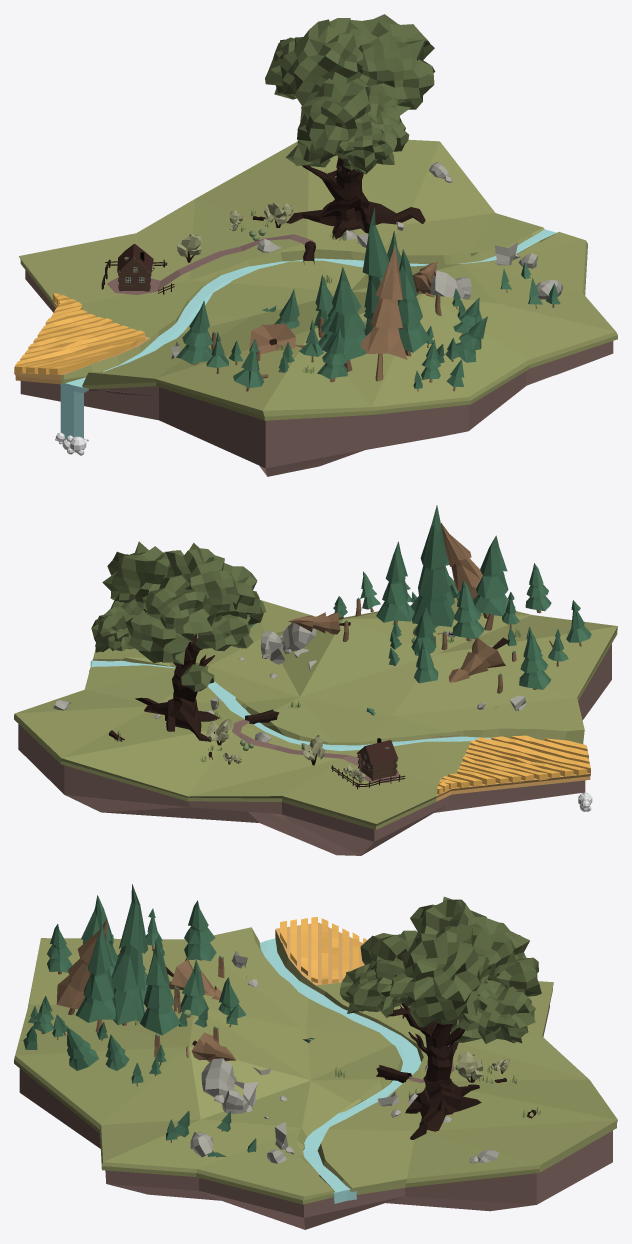
Rendered from Pasaulis.glb.
The picture shows the model from 3 angles, top to bottom: view 1: azimuth 30°, elevation 25°; view 2: azimuth 150°, elevation 25°; view 3: azimuth 270°, elevation 25°; orthographic projection. The views are drawn at different scales.
Parts seen in each view (by area): view 1: Ground grass, earth, Cube.021, Cube.001, Cube.004, RIVER, Oak, Cube.009, Spruce.008, Cube.010, Spruce.005, Spruce.007 (+12 smaller); view 2: Ground grass, earth, Cube.021, Cube.004, Cube, Cube.001, Spruce.013, Oak, Spruce.005, Cube.008, RIVER, Cube.006 (+16 smaller); view 3: Ground grass, earth, Cube.001, Oak, RIVER, Cube.006, Spruce.013, Cube.021, Spruce.007, Cube, Spruce.004, Cube.005 (+18 smaller).
Part boxes in pixels (x1,y1,x2,y2): Ground grass: [14, 139, 617, 420]; earth: [20, 270, 613, 476]; Cube.021: [14, 293, 145, 374]; Cube.001: [349, 14, 435, 109]; Cube.004: [280, 18, 363, 106]; RIVER: [60, 229, 556, 441]; Oak: [286, 157, 425, 239]; Cube.009: [301, 78, 370, 154]; Spruce.008: [361, 245, 407, 381]; Cube.010: [335, 110, 396, 174]; Spruce.005: [322, 267, 366, 371]; Spruce.007: [398, 249, 429, 356]; Ground grass: [14, 598, 617, 829]; earth: [18, 644, 611, 855]; Cube.021: [437, 735, 590, 794]; Cube.004: [165, 542, 239, 626]; Cube: [142, 575, 212, 641]; Cube.001: [102, 541, 183, 609]; Spruce.013: [410, 505, 454, 626]; Oak: [135, 609, 228, 741]; Spruce.005: [473, 535, 515, 630]; Cube.008: [125, 612, 189, 662]; RIVER: [89, 660, 584, 795]; Cube.006: [91, 599, 146, 652]; Ground grass: [14, 922, 617, 1204]; earth: [19, 938, 612, 1229]; Cube.001: [389, 924, 489, 1027]; Oak: [381, 978, 489, 1139]; RIVER: [260, 938, 421, 1203]; Cube.006: [456, 980, 535, 1043]; Spruce.013: [111, 884, 148, 1025]; Cube.021: [280, 917, 367, 984]; Spruce.007: [75, 924, 115, 1032]; Cube: [469, 918, 529, 983]; Spruce.004: [140, 939, 181, 1035]; Cube.005: [348, 959, 409, 1018].
Size of the model in its own units: 191 by 107 by 178.
Materials: 20 (3 with a texture image).
